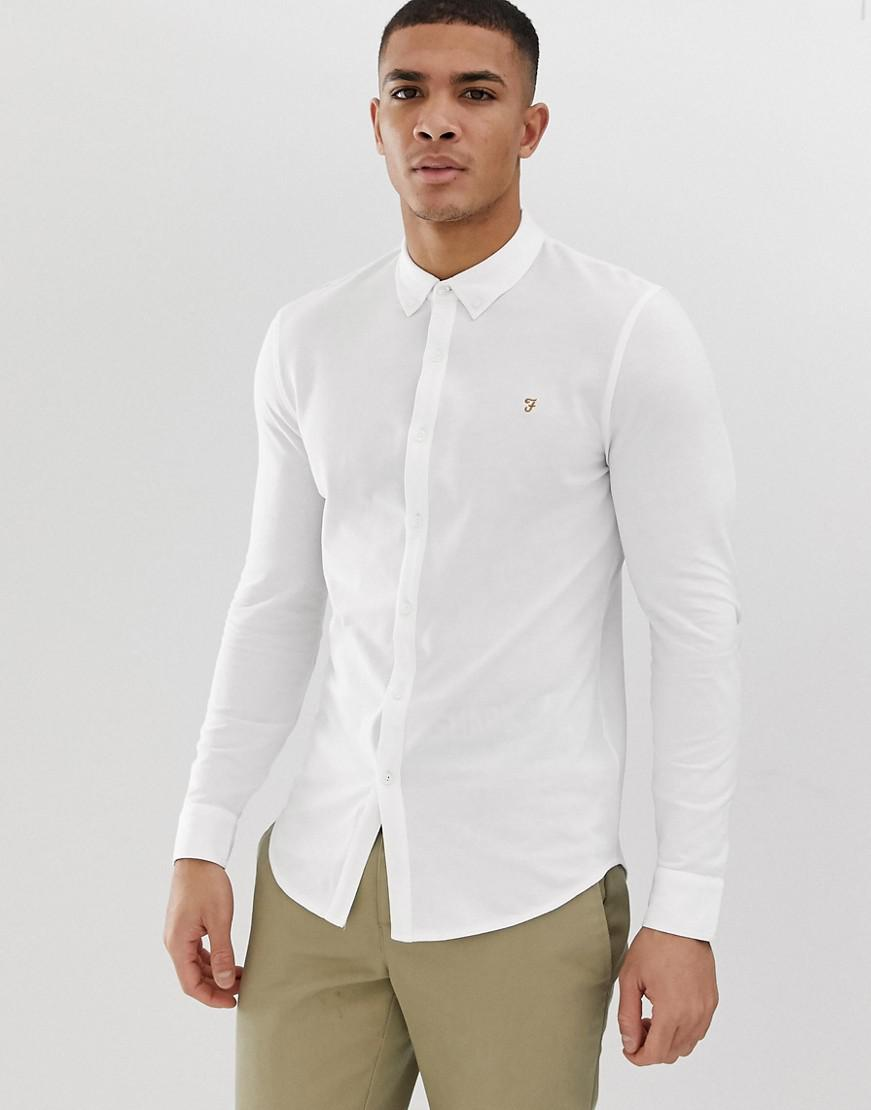teeshirt: (157, 222, 768, 968)
